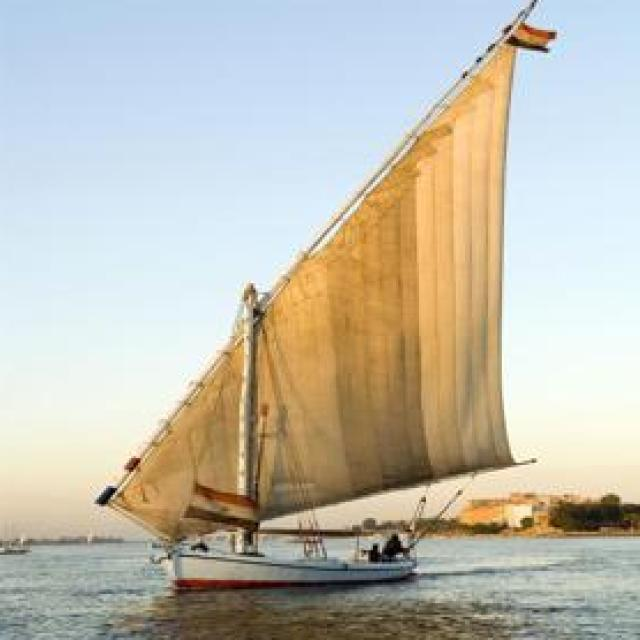sailboat: (87, 0, 578, 585)
